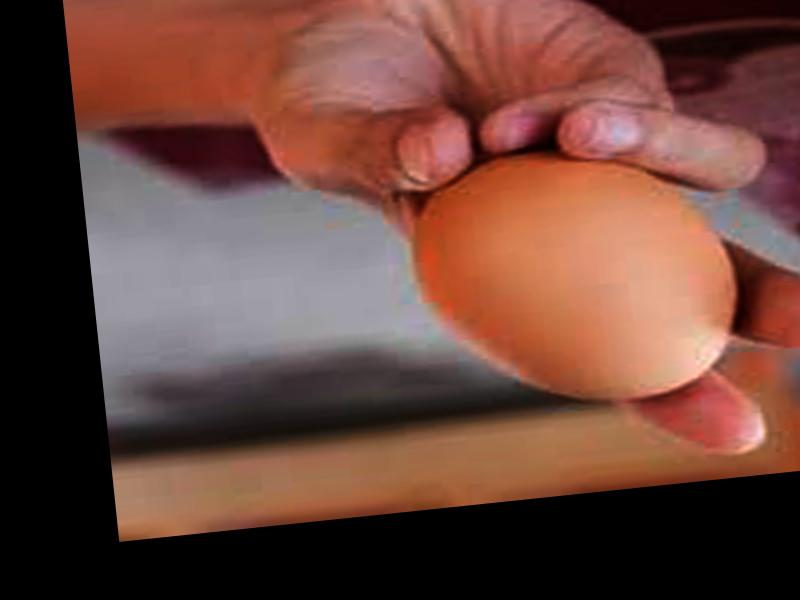Eggs: (408, 133, 751, 417)
